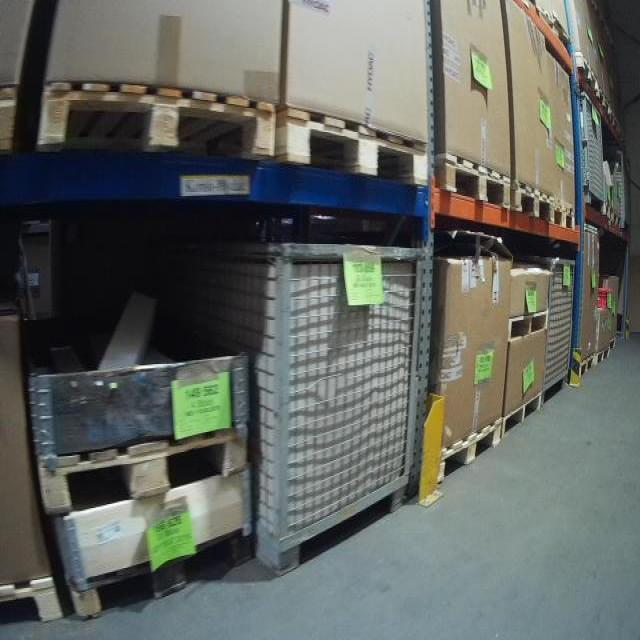pallet: (34, 75, 280, 162), (37, 419, 254, 517), (58, 521, 257, 623), (275, 106, 431, 185), (439, 418, 505, 491), (437, 151, 510, 216), (2, 574, 53, 630), (502, 389, 545, 447), (508, 305, 554, 345), (514, 179, 552, 227), (0, 79, 22, 153), (551, 197, 578, 231), (577, 55, 600, 93), (574, 351, 597, 383), (597, 346, 611, 366)
small_load_carrier: (595, 285, 616, 309)
stillage: (142, 243, 417, 574), (577, 95, 609, 205), (548, 254, 571, 405), (607, 146, 635, 238)
